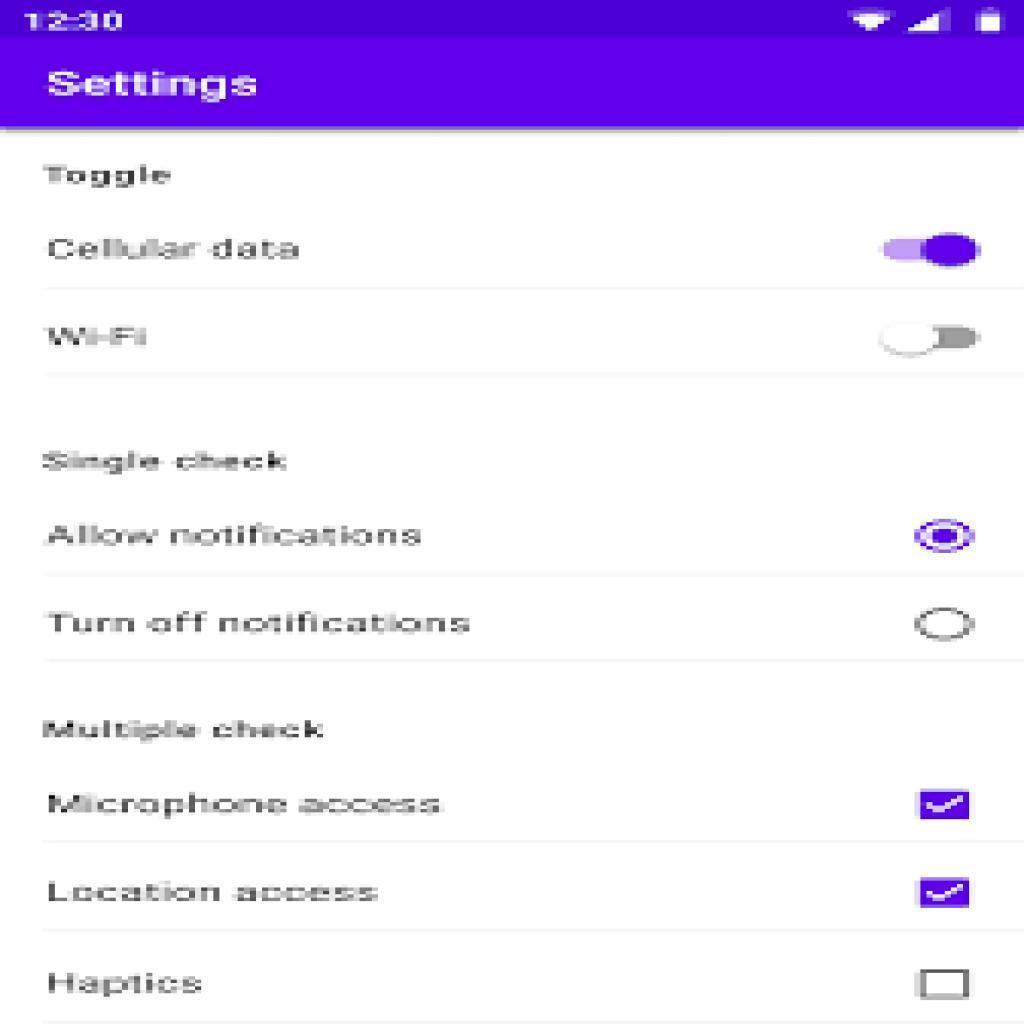checkbox: (915, 877, 975, 912), (915, 788, 973, 820), (920, 967, 970, 999)
label: (36, 516, 437, 555), (40, 606, 481, 638), (37, 790, 443, 823), (41, 229, 326, 269), (41, 879, 386, 909), (33, 713, 332, 745), (44, 59, 270, 101), (33, 449, 293, 478), (43, 966, 204, 1000), (44, 154, 176, 191), (40, 321, 169, 357)
radio: (913, 515, 977, 552), (911, 608, 977, 643)
switch: (877, 233, 983, 270), (878, 319, 977, 355)
